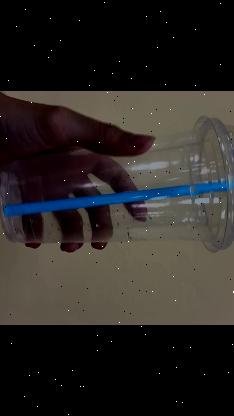Others: (0, 119, 234, 247)
